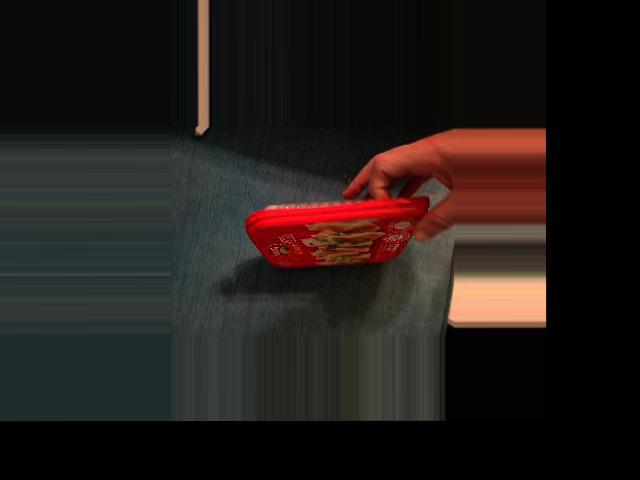cheese: (250, 183, 427, 268)
